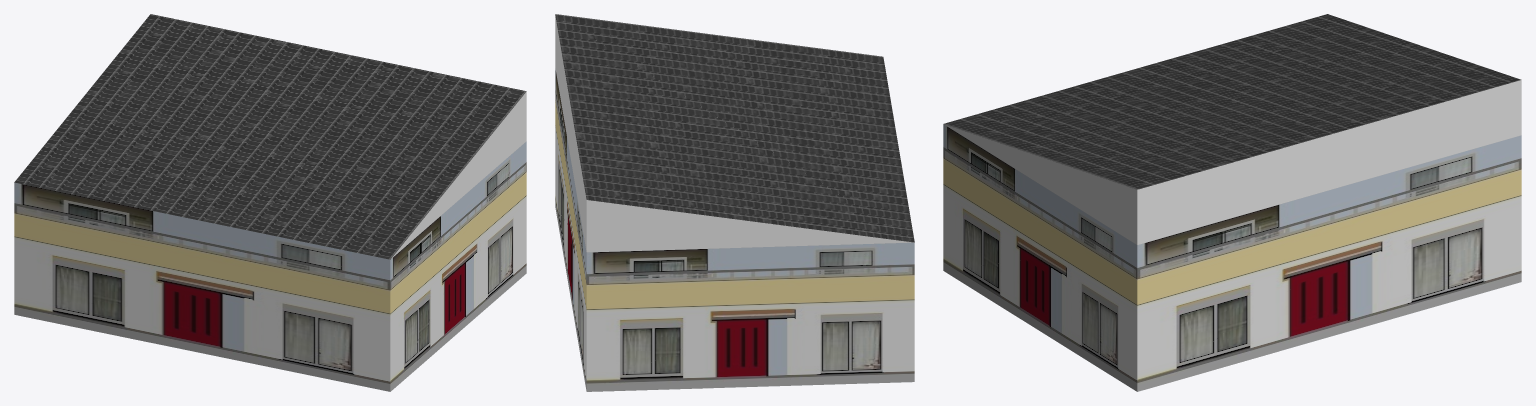
3 renders of one model, left to right at view 1: azimuth 30°, elevation 25°; view 2: azimuth 150°, elevation 25°; view 3: azimuth 270°, elevation 25°, orthographic. The views are drawn at different scales.
Parts seen in each view (by area): view 1: CityEngineMaterial_16_m, CityEngineMaterial_15_m, CityEngineMaterial_3_m; view 2: CityEngineMaterial_16_m, CityEngineMaterial_15_m, CityEngineMaterial_3_m; view 3: CityEngineMaterial_15_m, CityEngineMaterial_16_m, CityEngineMaterial_3_m.
Part boxes in pixels (x1,y1,x2,y2): CityEngineMaterial_16_m: (14, 14, 526, 259); CityEngineMaterial_15_m: (14, 141, 526, 391); CityEngineMaterial_3_m: (391, 92, 526, 258); CityEngineMaterial_16_m: (555, 14, 914, 242); CityEngineMaterial_15_m: (555, 68, 914, 391); CityEngineMaterial_3_m: (555, 16, 913, 252); CityEngineMaterial_15_m: (943, 124, 1521, 391); CityEngineMaterial_16_m: (944, 14, 1521, 189); CityEngineMaterial_3_m: (944, 80, 1521, 244).
Size of the model in its own units: 27.9 by 11.38 by 29.51.
